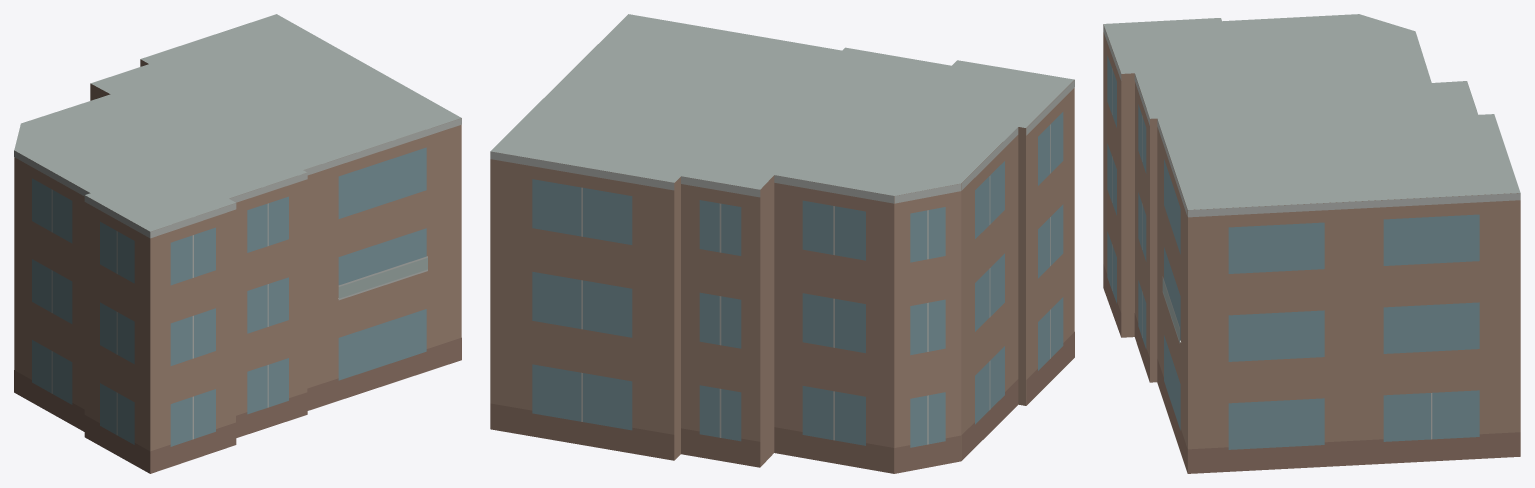
File: survey-upis-32658844.glb
3 renders of one model, left to right at view 1: azimuth 30°, elevation 25°; view 2: azimuth 150°, elevation 25°; view 3: azimuth 270°, elevation 25°, orthographic. The views are drawn at different scales.
Visible parts, largest first — view 1: survey-upis-32658844.tmp; view 2: survey-upis-32658844.tmp; view 3: survey-upis-32658844.tmp.
Part boxes in pixels (left/top/right/bottom): survey-upis-32658844.tmp: left=14, top=14, right=461, bottom=473; survey-upis-32658844.tmp: left=490, top=14, right=1074, bottom=473; survey-upis-32658844.tmp: left=1103, top=14, right=1520, bottom=473.
Size of the model in its own units: 14.04 by 8.8 by 12.62.
